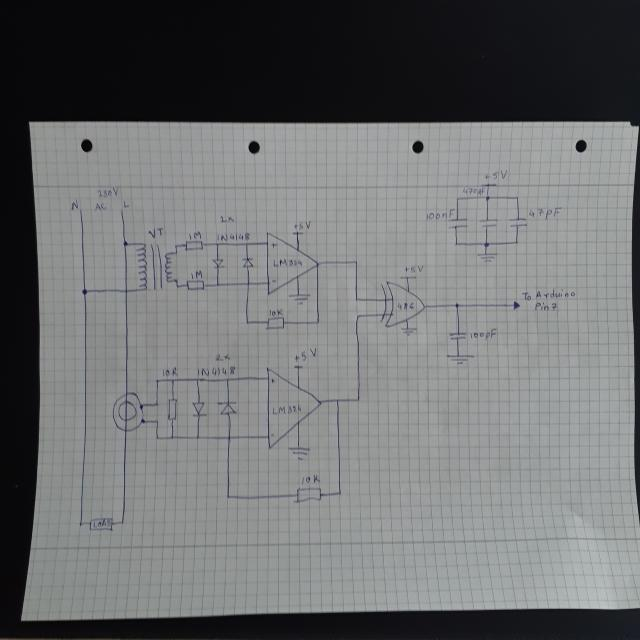capacitor: (446, 216, 470, 232), (479, 216, 498, 232), (507, 216, 528, 230), (448, 329, 467, 342)
crossover: (123, 287, 129, 295)
diode: (216, 398, 238, 418), (190, 400, 208, 419), (240, 256, 255, 270), (211, 256, 226, 270)
ground: (446, 353, 475, 368), (287, 446, 310, 462), (477, 250, 498, 266), (288, 293, 311, 307), (398, 326, 417, 338)
inductor: (110, 390, 146, 432)
junction: (481, 239, 491, 249), (194, 434, 202, 442), (244, 280, 252, 288), (226, 433, 233, 442), (81, 288, 88, 296), (484, 194, 491, 202), (354, 296, 361, 304), (354, 312, 361, 320), (454, 302, 461, 310), (225, 493, 232, 501), (352, 258, 359, 266), (169, 434, 176, 442), (244, 319, 251, 326), (314, 319, 321, 326), (122, 240, 128, 248), (154, 400, 160, 408), (154, 418, 160, 426), (514, 239, 520, 246), (514, 194, 520, 201), (334, 397, 340, 404), (453, 240, 459, 247), (154, 377, 160, 384), (154, 434, 160, 441), (356, 396, 362, 403), (119, 520, 125, 526), (215, 281, 221, 287), (454, 196, 460, 202), (337, 489, 342, 496), (78, 521, 83, 527), (194, 377, 200, 382), (170, 378, 176, 382), (215, 241, 219, 246), (245, 242, 249, 247), (138, 405, 143, 409), (140, 418, 144, 423), (174, 243, 178, 247), (175, 284, 179, 288), (226, 378, 230, 381)
resistor: (292, 486, 323, 506), (166, 397, 178, 425), (265, 316, 286, 330), (186, 277, 205, 291), (90, 518, 112, 530), (184, 240, 204, 250)
source: (480, 181, 497, 188), (398, 275, 417, 280), (292, 230, 304, 236), (294, 364, 302, 370)
terminal: (511, 300, 521, 312), (119, 209, 125, 216), (78, 207, 82, 214)
text: (522, 288, 576, 302), (528, 204, 562, 221), (196, 364, 236, 378), (424, 208, 456, 222), (271, 255, 304, 268), (293, 347, 318, 363), (270, 403, 302, 415), (469, 328, 497, 341), (218, 231, 250, 242), (534, 300, 560, 313), (96, 186, 120, 199), (292, 218, 312, 232), (485, 169, 508, 181), (462, 185, 485, 197), (403, 263, 424, 274), (147, 226, 164, 239), (162, 366, 179, 378), (300, 474, 320, 484), (219, 214, 236, 225), (396, 300, 414, 310), (214, 352, 230, 362), (94, 202, 107, 212), (269, 308, 283, 317), (93, 520, 110, 527), (188, 232, 202, 240), (70, 200, 79, 211), (189, 271, 202, 277), (269, 241, 277, 249), (122, 201, 129, 209), (270, 277, 276, 283), (270, 378, 275, 384), (270, 432, 274, 437)
transformer: (137, 242, 174, 294)
